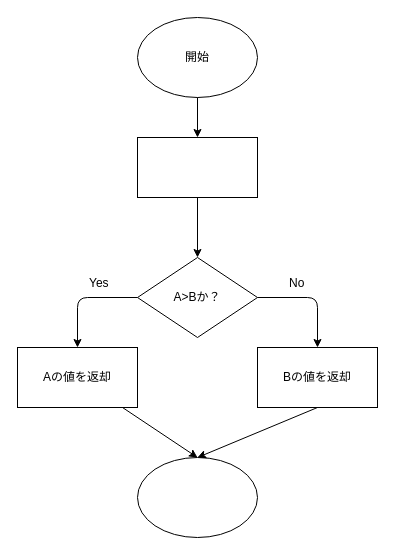
The diagram is 395 pixels wide and 555 high, and some of its shapes have lost their labels. The shapes that lost their labels are listed below. From the top down, each one's box as (x1, y1, x2, y2) in pixels, then its label:
(136, 136, 258, 198): AとBに任意の数値を代入
(136, 456, 258, 538): 終了
